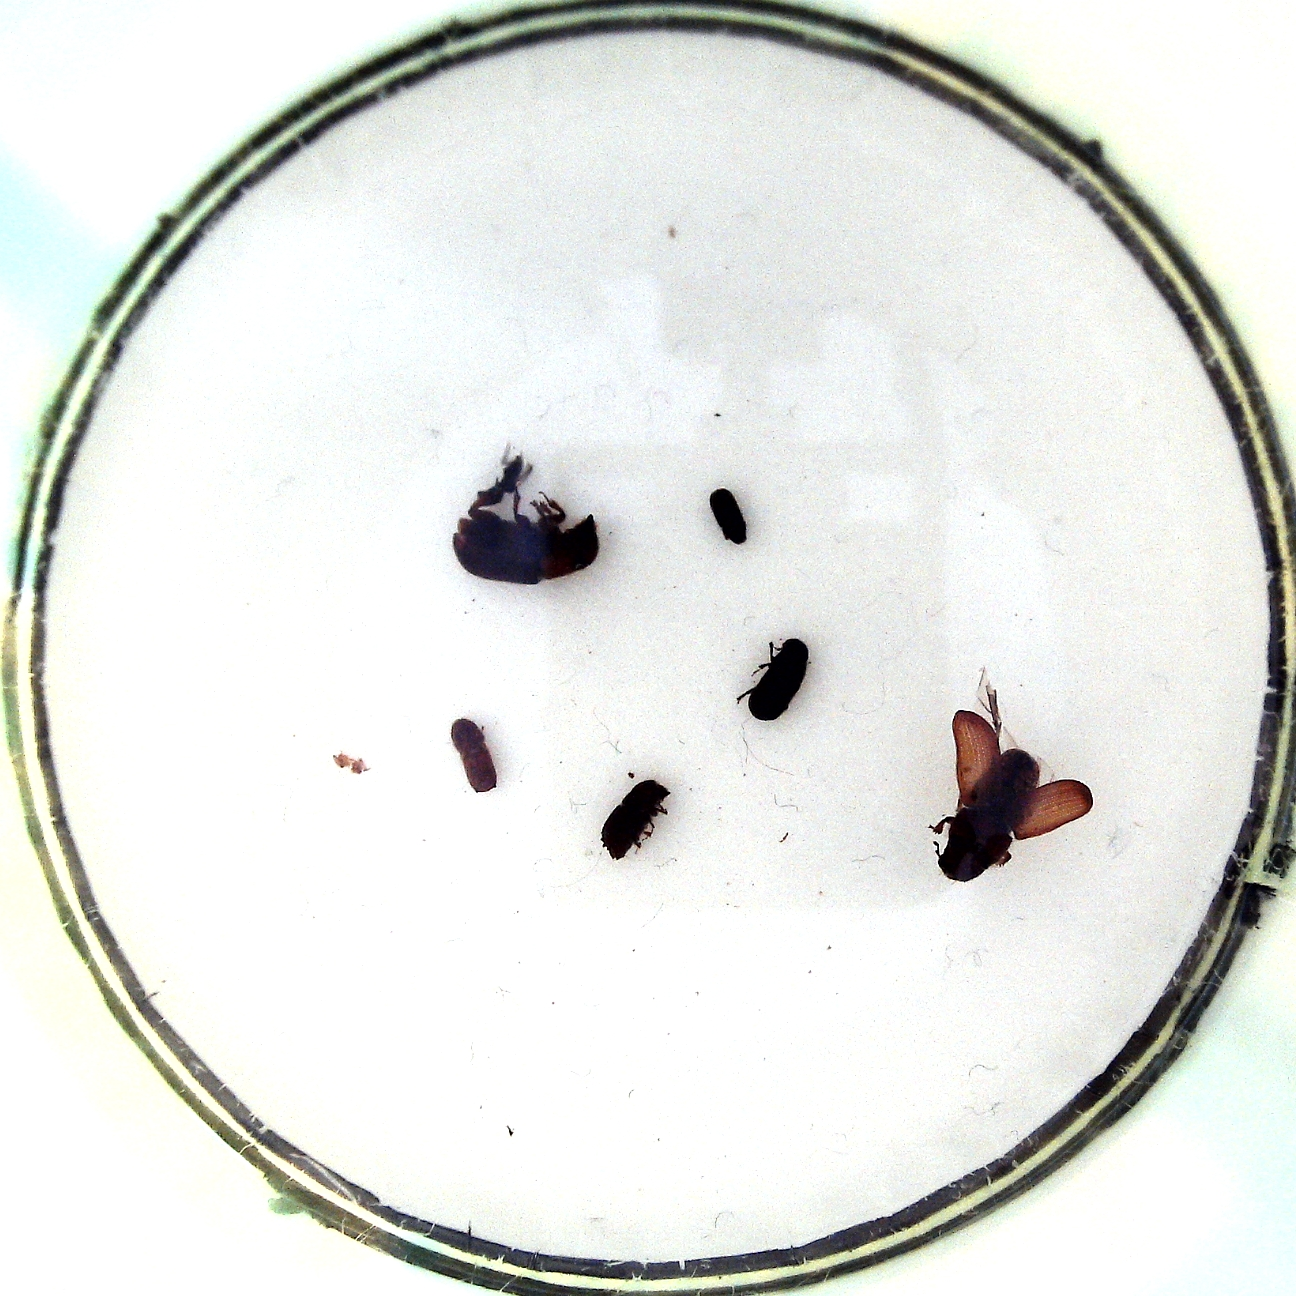Leconte: (925, 673, 1106, 887), (441, 493, 603, 587)
Linnaeus: (596, 779, 674, 864)
acuminatus: (444, 717, 503, 798)
armandi: (737, 633, 813, 728)
coleoptera: (710, 481, 749, 546), (487, 446, 536, 494)
